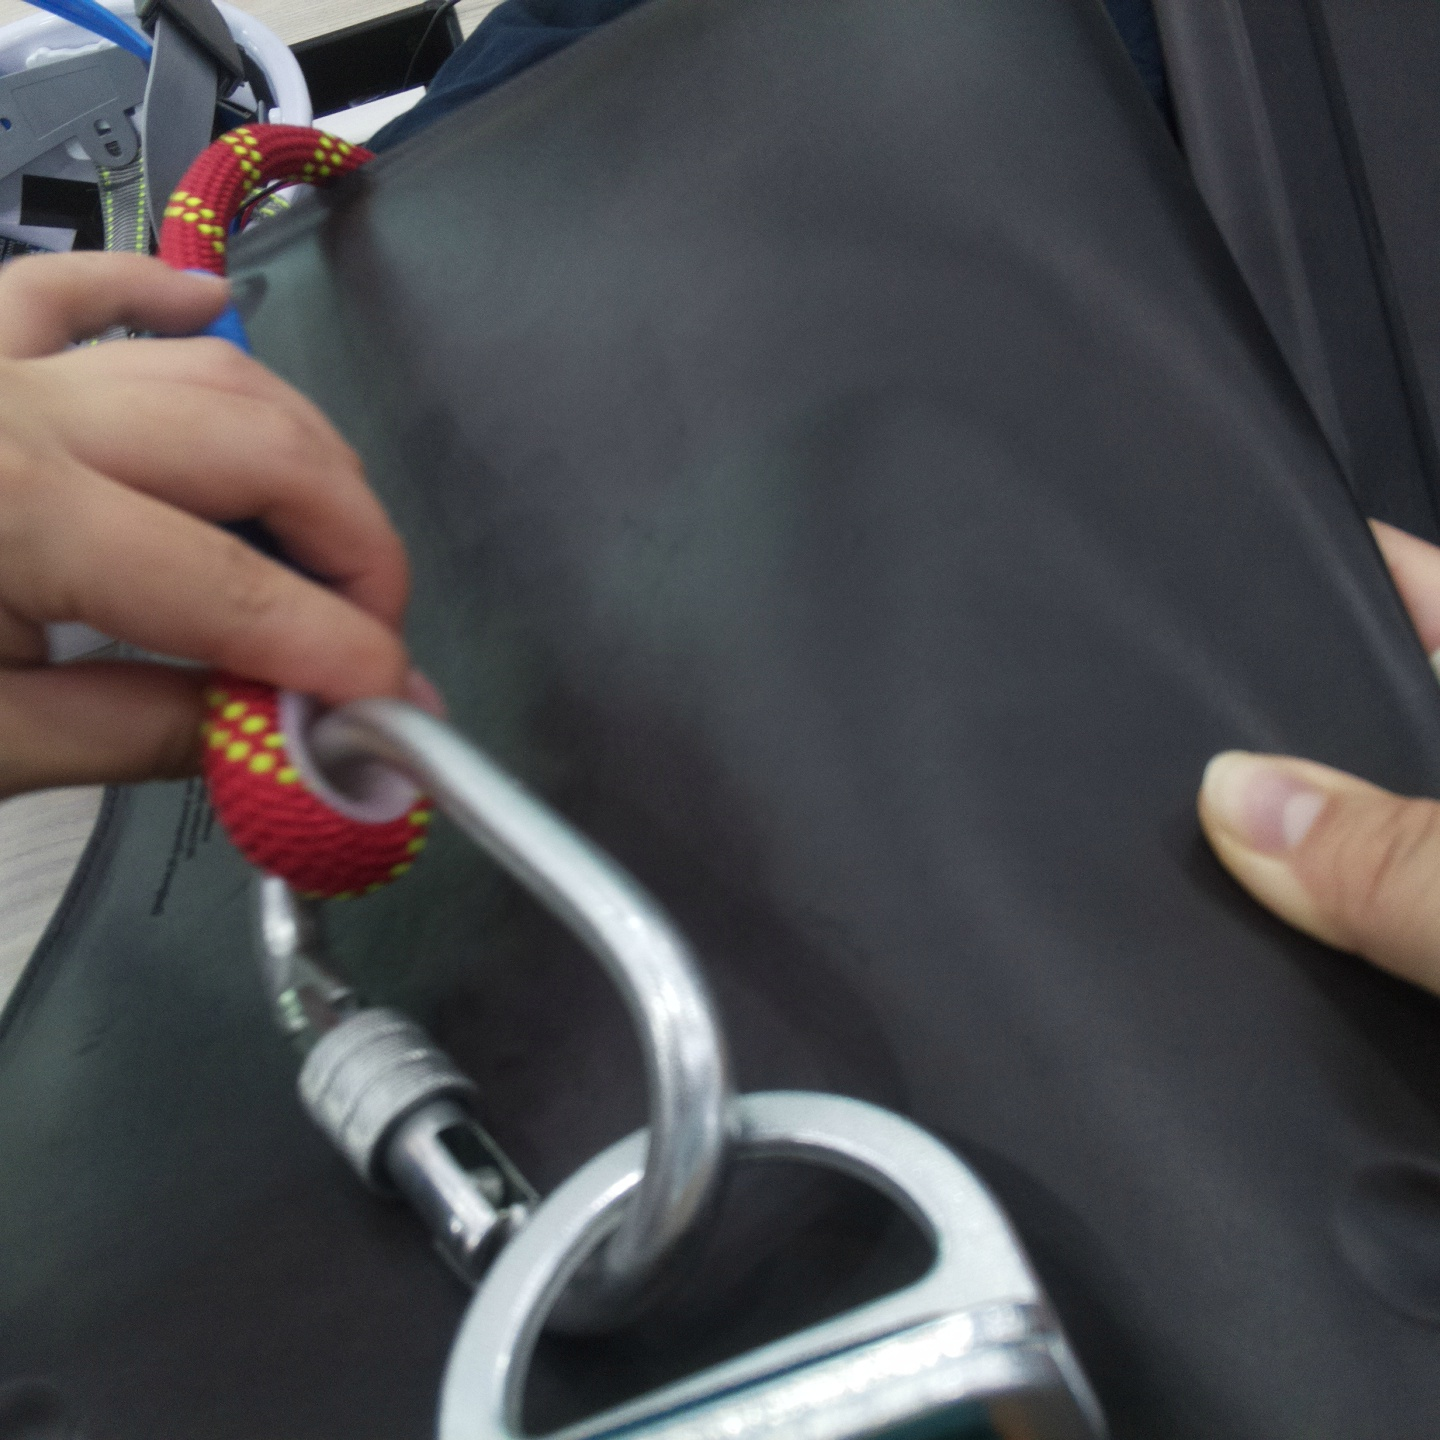SUCCESS: (261, 955, 1091, 1398)
